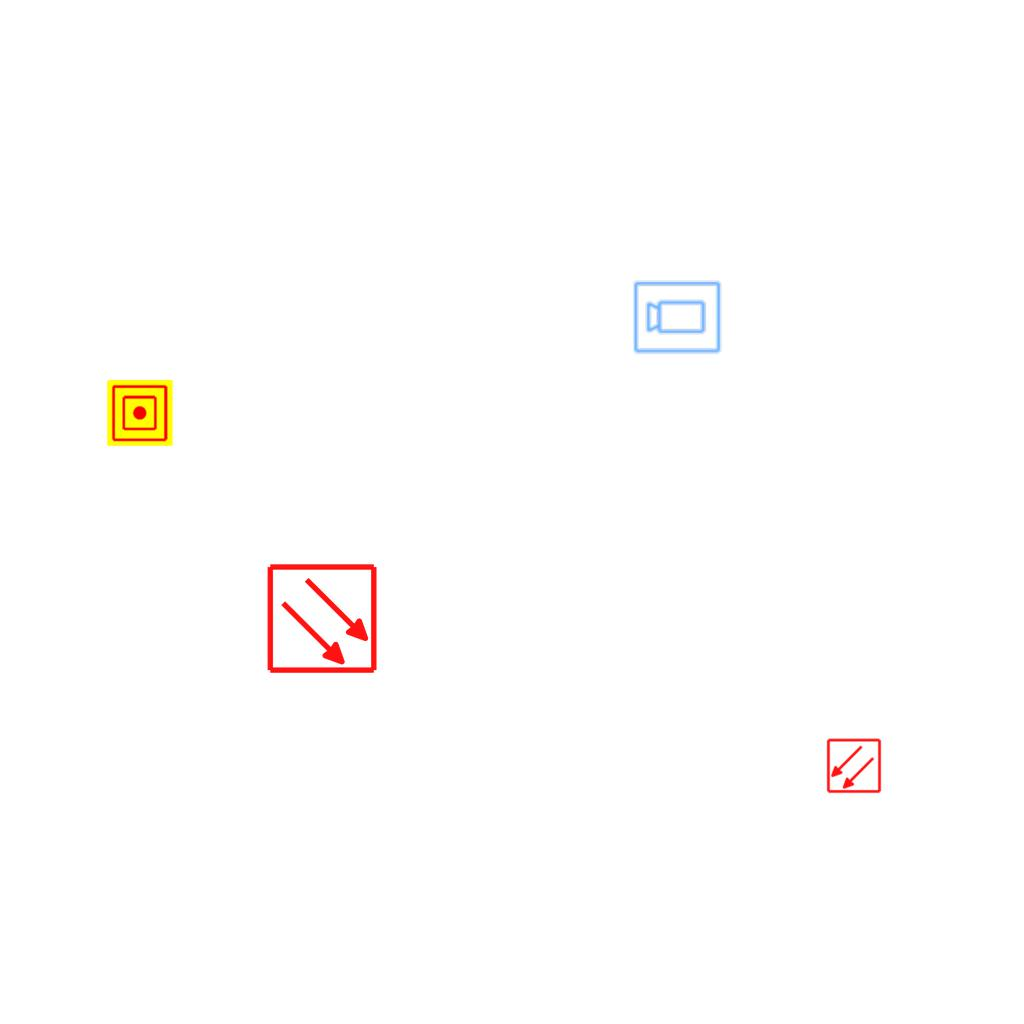KFO_Kamera_mit_Festobjektiv: (632, 278, 723, 355)
NAM-Nichtautomatischer_Melder: (107, 380, 173, 446)
RMO_Rauchmelder_optischer: (266, 562, 379, 675), (826, 738, 882, 794)
